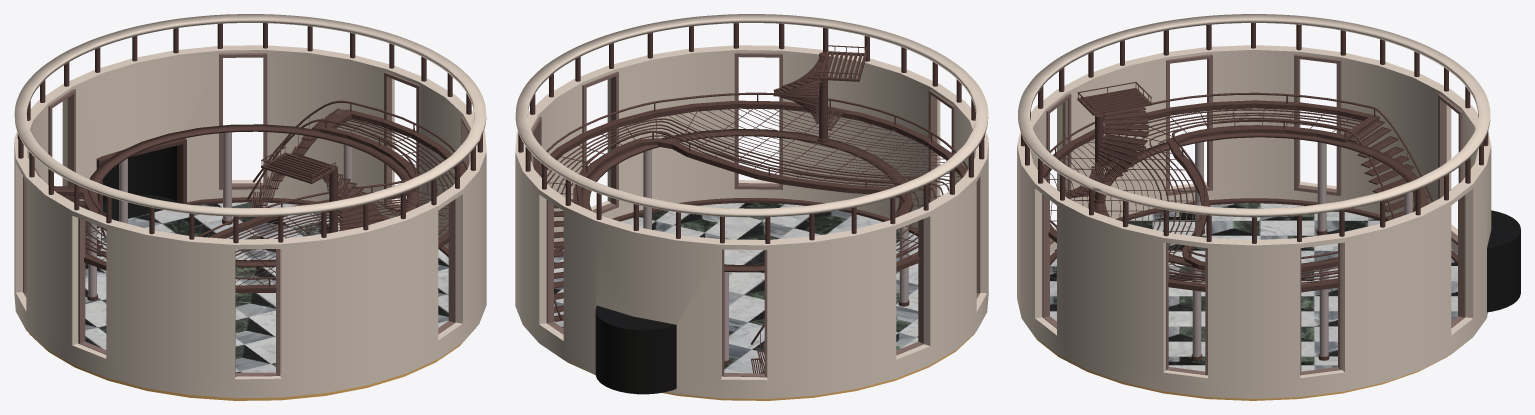
File: Museum.fbx
3 renders of one model, left to right at view 1: azimuth 30°, elevation 25°; view 2: azimuth 150°, elevation 25°; view 3: azimuth 270°, elevation 25°, orthographic.
Visible parts, largest first — view 1: Cylinder.005; view 2: Cylinder.005; view 3: Cylinder.005.
Part boxes in pixels (<box>): Cylinder.005: <box>14,14,486,400</box>; Cylinder.005: <box>515,14,988,400</box>; Cylinder.005: <box>1017,14,1520,400</box>.
Bounding box in the file's own units: 2671 × 1225 × 2838.
